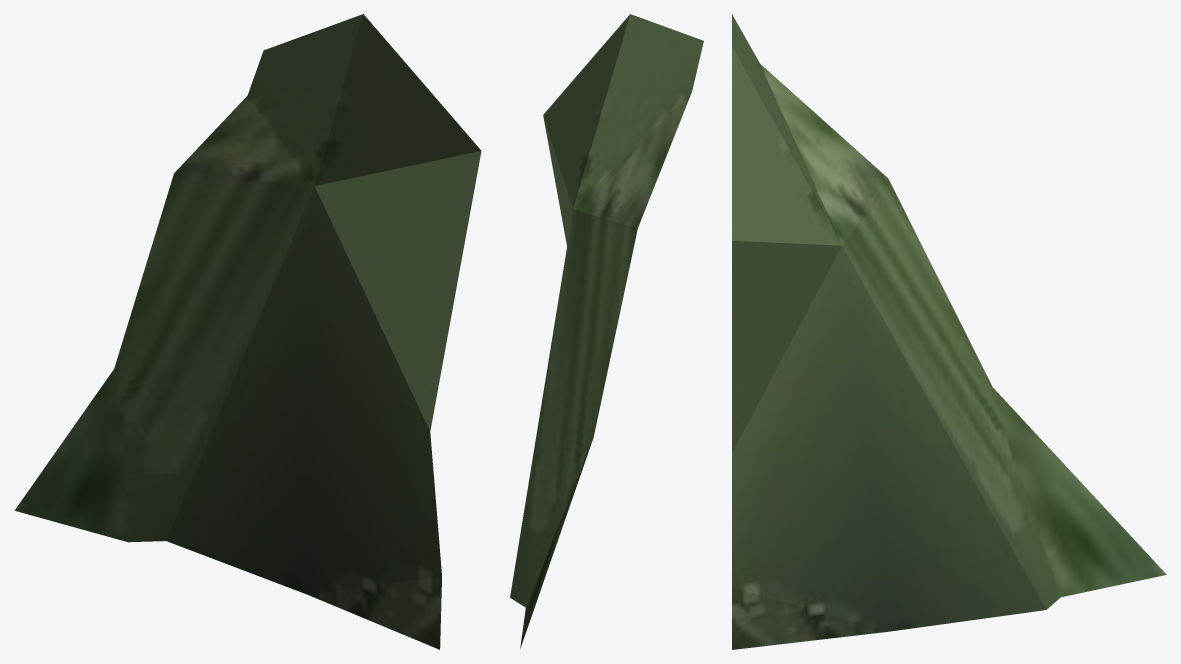
3 renders of one model, left to right at view 1: azimuth 30°, elevation 25°; view 2: azimuth 150°, elevation 25°; view 3: azimuth 270°, elevation 25°, orthographic. The views are drawn at different scales.
Size of the model in its own units: 0.496 by 1.42 by 0.9822.
Materials: 1 (1 with a texture image).
